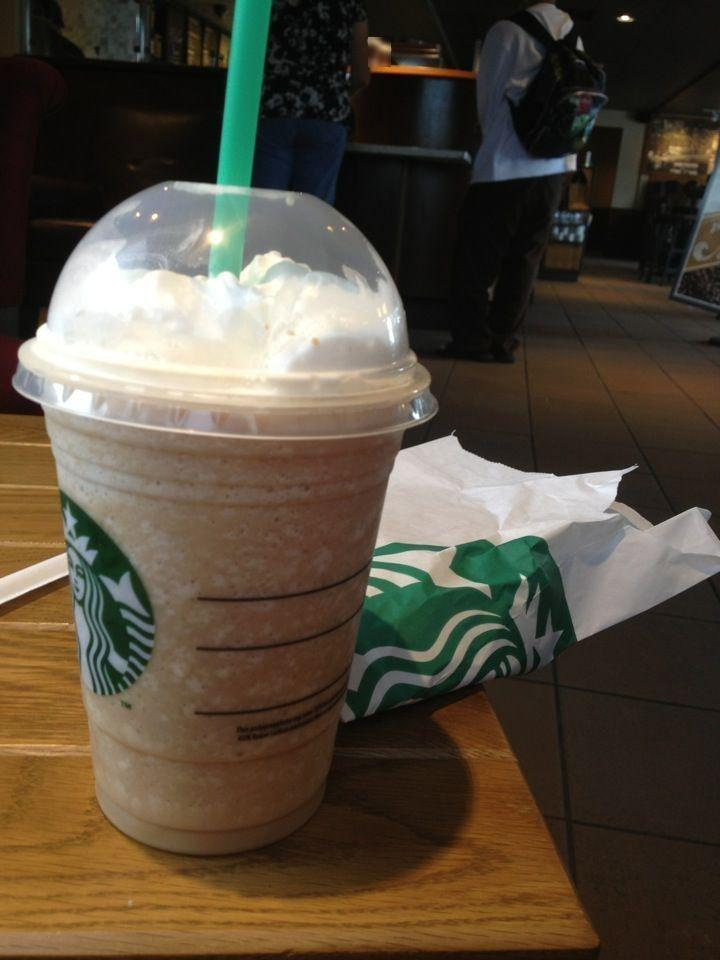cup-disposable: (10, 180, 439, 860)
